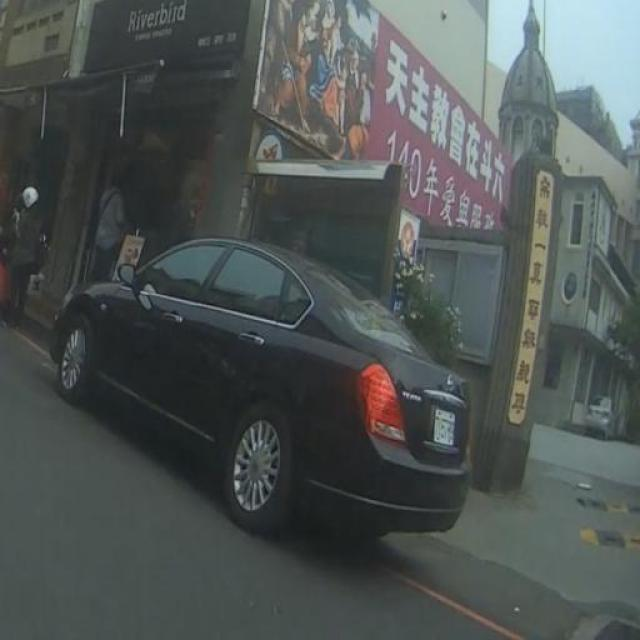Legalparking: (0, 195, 509, 554)
